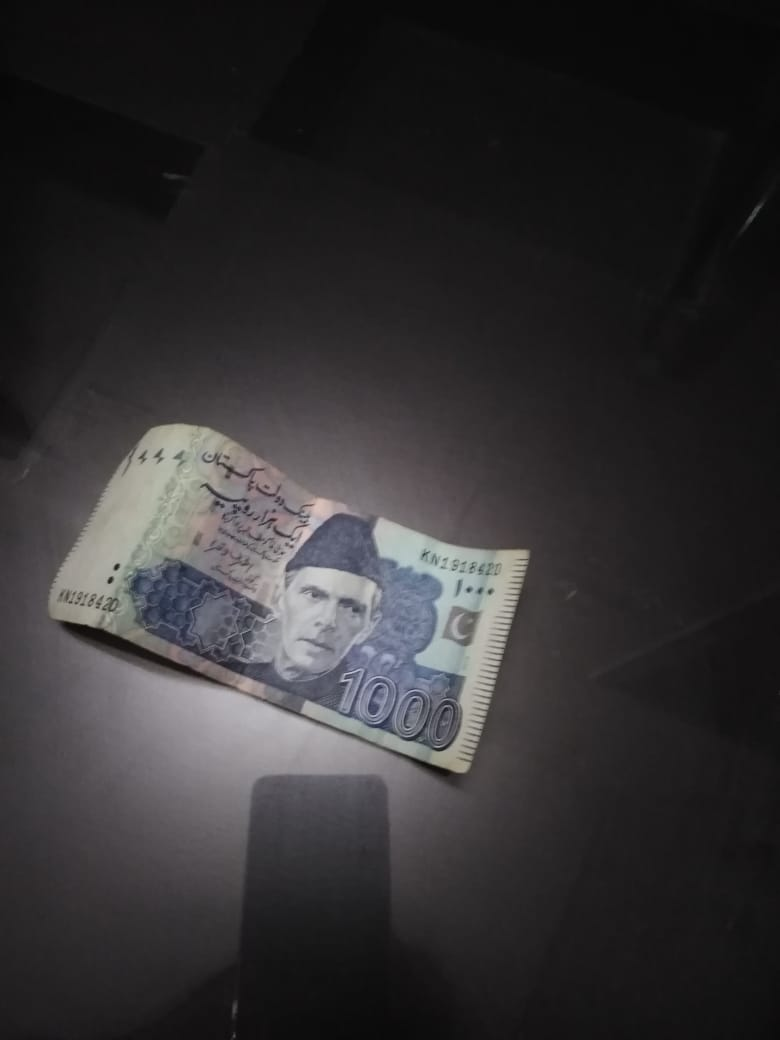1000 rupee: (34, 383, 556, 788)
